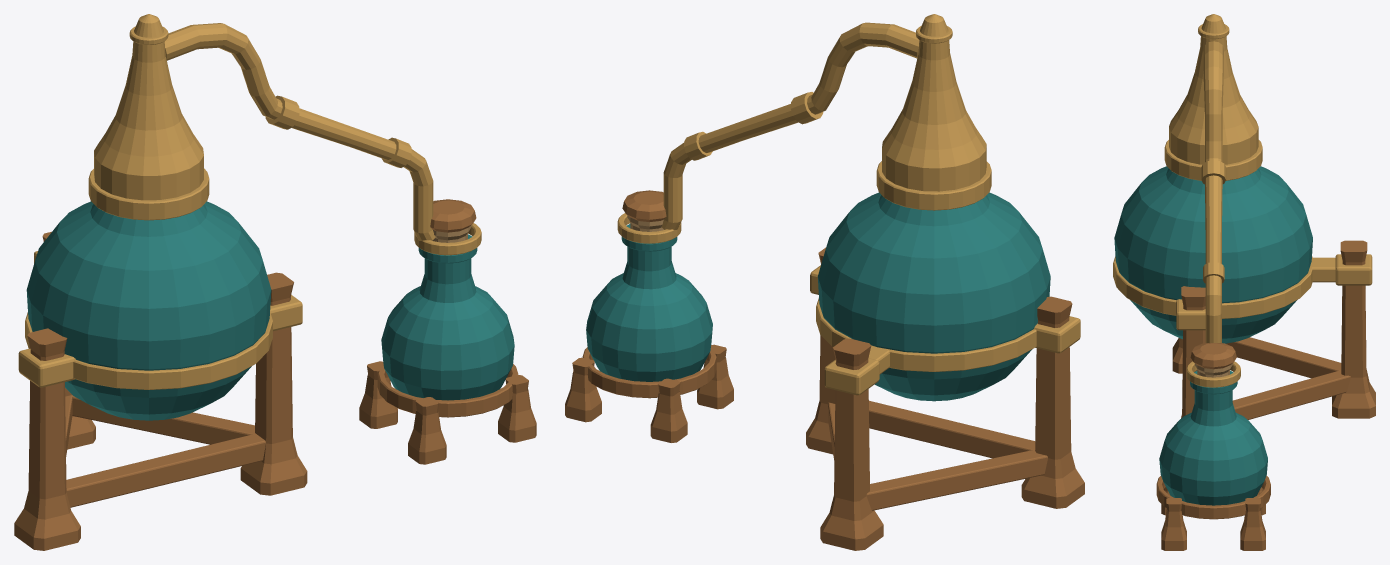
The model's file is asset.glb.
The picture shows the model from 3 angles, left to right: view 1: azimuth 30°, elevation 25°; view 2: azimuth 150°, elevation 25°; view 3: azimuth 270°, elevation 25°; orthographic projection. The views are drawn at different scales.
Parts seen in each view (by area): view 1: boiling_flask, receiving_bottle, alembic_head, boiler_support_left, descending_transfer_tube, boiler_support_right, boiler_base_rail_front, boiler_cradle_band, boiler_base_rail_right, flask_neck_joint, receiver_oak_cradle, receiver_foot_front_left (+8 smaller); view 2: boiling_flask, receiving_bottle, alembic_head, boiler_support_rear, boiler_support_left, descending_transfer_tube, boiler_base_rail_left, boiler_base_rail_front, boiler_cradle_band, flask_neck_joint, receiver_oak_cradle, receiver_foot_rear_left (+7 smaller); view 3: boiling_flask, receiving_bottle, alembic_head, descending_transfer_tube, boiler_support_rear, boiler_base_rail_right, boiler_cradle_band, boiler_base_rail_left, boiler_support_right, receiver_oak_cradle, flask_neck_joint, receiver_foot_rear_right (+11 smaller).
Boxes of the visible parts, bbox=[...] form: boiling_flask: bbox=[26, 201, 271, 420]; receiving_bottle: bbox=[381, 237, 514, 400]; alembic_head: bbox=[94, 14, 203, 200]; boiler_support_left: bbox=[14, 328, 80, 550]; descending_transfer_tube: bbox=[164, 23, 435, 240]; boiler_support_right: bbox=[240, 272, 307, 495]; boiler_base_rail_front: bbox=[66, 434, 265, 507]; boiler_cradle_band: bbox=[25, 312, 272, 389]; boiler_base_rail_right: bbox=[71, 395, 255, 444]; flask_neck_joint: bbox=[88, 168, 209, 220]; receiver_oak_cradle: bbox=[377, 363, 518, 417]; receiver_foot_front_left: bbox=[408, 397, 446, 464]; boiling_flask: bbox=[817, 192, 1050, 401]; receiving_bottle: bbox=[586, 227, 712, 381]; alembic_head: bbox=[882, 14, 986, 191]; boiler_support_rear: bbox=[820, 338, 883, 550]; boiler_support_left: bbox=[1021, 296, 1084, 508]; descending_transfer_tube: bbox=[661, 22, 919, 229]; boiler_base_rail_left: bbox=[866, 449, 1047, 510]; boiler_base_rail_front: bbox=[869, 400, 1035, 458]; boiler_cradle_band: bbox=[816, 298, 1036, 371]; flask_neck_joint: bbox=[876, 161, 991, 210]; receiver_oak_cradle: bbox=[582, 347, 716, 398]; receiver_foot_rear_left: bbox=[650, 378, 687, 442]; boiling_flask: bbox=[1114, 166, 1312, 343]; receiving_bottle: bbox=[1159, 373, 1267, 505]; alembic_head: bbox=[1169, 14, 1258, 164]; descending_transfer_tube: bbox=[1203, 41, 1223, 343]; boiler_support_rear: bbox=[1332, 240, 1375, 418]; boiler_base_rail_right: bbox=[1232, 370, 1350, 419]; boiler_cradle_band: bbox=[1113, 256, 1313, 318]; boiler_base_rail_left: bbox=[1226, 337, 1341, 378]; boiler_support_right: bbox=[1181, 286, 1205, 418]; receiver_oak_cradle: bbox=[1156, 475, 1270, 519]; flask_neck_joint: bbox=[1164, 140, 1262, 180]; receiver_foot_rear_right: bbox=[1240, 498, 1265, 550].
Bounding box in the file's own units: 0.3422 × 0.32 × 0.1932.
